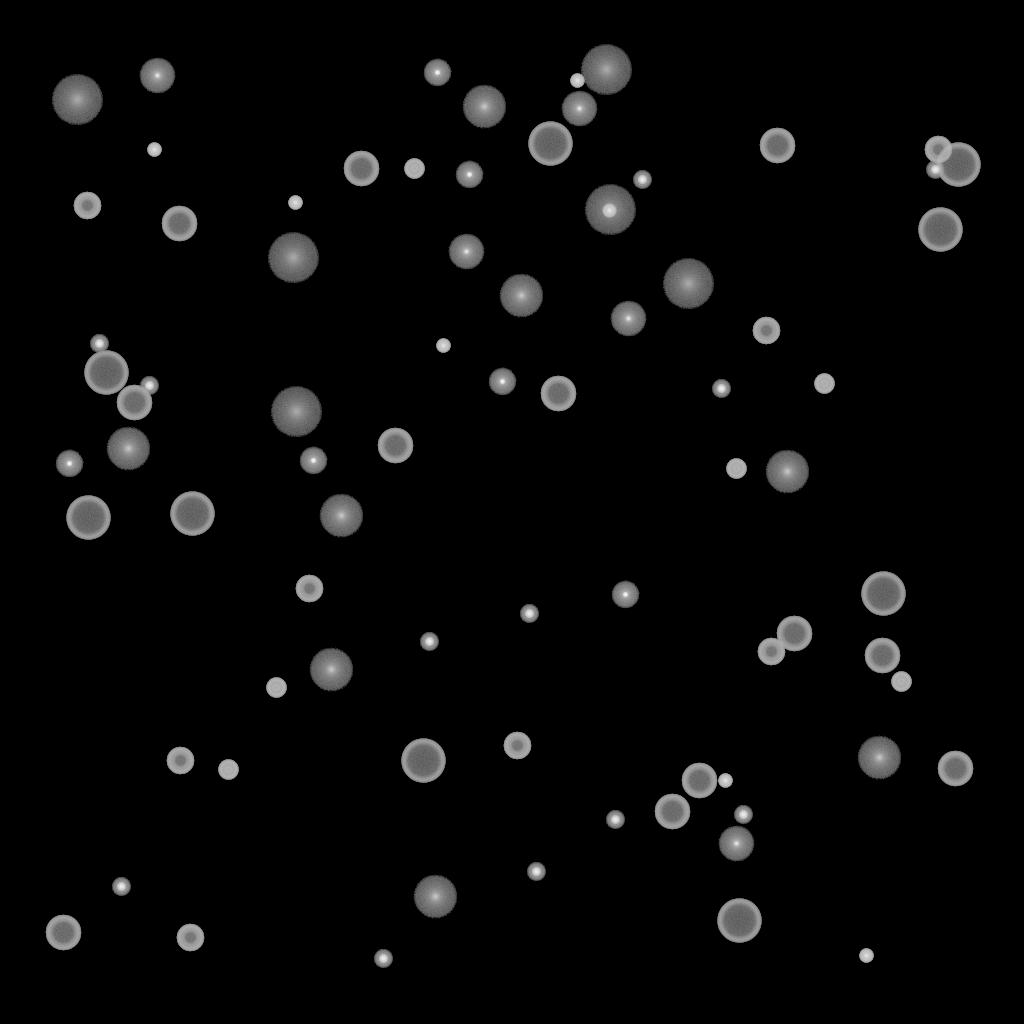depth:-10: (423, 59, 451, 87), (611, 581, 639, 609), (455, 161, 483, 189), (488, 368, 516, 396), (299, 447, 327, 475), (55, 450, 83, 478)
depth:-20: (90, 335, 108, 353), (734, 806, 752, 824), (527, 863, 545, 881), (420, 633, 438, 651), (606, 811, 624, 829), (112, 878, 130, 896), (520, 605, 538, 623), (712, 380, 730, 398), (374, 950, 392, 968), (140, 377, 158, 395), (633, 171, 651, 189), (926, 161, 944, 179)
depth:-30: (570, 74, 584, 88), (718, 774, 732, 788), (288, 196, 302, 210), (602, 204, 616, 218), (859, 949, 873, 963), (436, 339, 450, 353), (147, 143, 161, 157)
depth:-40: (726, 459, 746, 479), (814, 374, 834, 394), (891, 672, 911, 692), (218, 760, 238, 780), (404, 159, 424, 179), (266, 678, 286, 698)
depth:-50: (924, 136, 952, 164), (176, 924, 204, 952), (752, 317, 780, 345), (295, 575, 323, 603), (503, 732, 531, 760), (73, 192, 101, 220), (166, 747, 194, 775), (757, 638, 785, 666)
depth:-60: (343, 151, 379, 187), (654, 794, 690, 830), (116, 385, 152, 421), (759, 128, 795, 164), (776, 616, 812, 652), (864, 638, 900, 674), (681, 763, 717, 799), (45, 915, 81, 951), (540, 376, 576, 412), (377, 428, 413, 464), (937, 751, 973, 787), (161, 206, 197, 242)
depth:-70: (936, 143, 980, 187), (861, 572, 905, 616), (84, 351, 128, 395), (528, 122, 572, 166), (170, 492, 214, 536), (717, 899, 761, 943), (66, 496, 110, 540), (401, 739, 445, 783), (918, 208, 962, 252)
depth:0: (139, 58, 175, 94), (561, 91, 597, 127), (610, 301, 646, 337), (718, 826, 754, 862), (448, 234, 484, 270)
depth:10: (309, 648, 353, 692), (499, 274, 543, 318), (106, 427, 150, 471), (857, 736, 901, 780), (319, 494, 363, 538), (462, 85, 506, 129), (413, 875, 457, 919), (765, 450, 809, 494)
depth:20: (584, 185, 636, 235), (51, 75, 103, 125), (270, 387, 322, 437), (580, 45, 632, 95), (267, 233, 319, 283), (662, 259, 714, 309)
